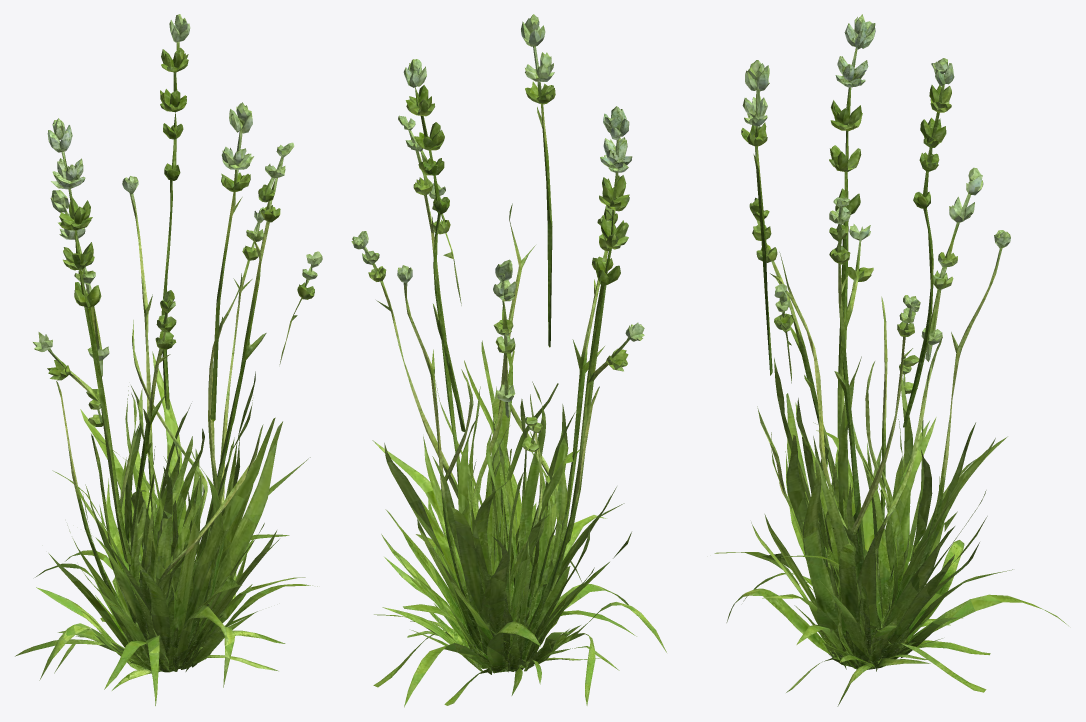
File: plant-flax-final.glb
The picture shows the model from 3 angles, left to right: view 1: azimuth 30°, elevation 25°; view 2: azimuth 150°, elevation 25°; view 3: azimuth 270°, elevation 25°; orthographic projection. The views are drawn at different scales.
Visible parts, largest first — view 1: output_unwrapped; view 2: output_unwrapped; view 3: output_unwrapped.
Boxes of the visible parts, x1,y1,x2,y2 form: output_unwrapped: (15,14,322,705); output_unwrapped: (351,14,666,707); output_unwrapped: (714,14,1068,706).
Bounding box in the file's own units: 0.2424 × 0.4998 × 0.2721.
1 material, 1 textured.
